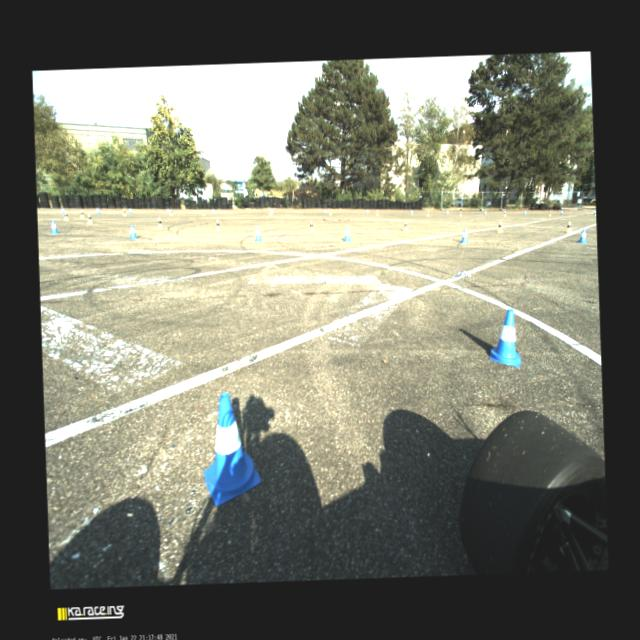blue_cone: (200, 392, 261, 506), (487, 308, 520, 368), (128, 223, 138, 238), (50, 219, 59, 233), (342, 226, 350, 241), (578, 228, 586, 242), (460, 228, 468, 242), (254, 226, 262, 240), (60, 207, 64, 214), (96, 207, 100, 213), (128, 208, 131, 212), (410, 208, 412, 214), (446, 209, 448, 214), (366, 209, 368, 214), (560, 210, 562, 214), (524, 210, 526, 214), (484, 210, 486, 214)
yellow_cone: (157, 216, 163, 228), (566, 220, 571, 232), (402, 220, 408, 230), (497, 220, 502, 231), (308, 220, 313, 231), (216, 219, 220, 230), (87, 214, 92, 222), (64, 211, 68, 220), (122, 208, 126, 216), (80, 209, 84, 217), (548, 210, 551, 216), (328, 208, 331, 214), (268, 208, 271, 214), (201, 209, 204, 215), (376, 210, 378, 216), (426, 210, 428, 216)
